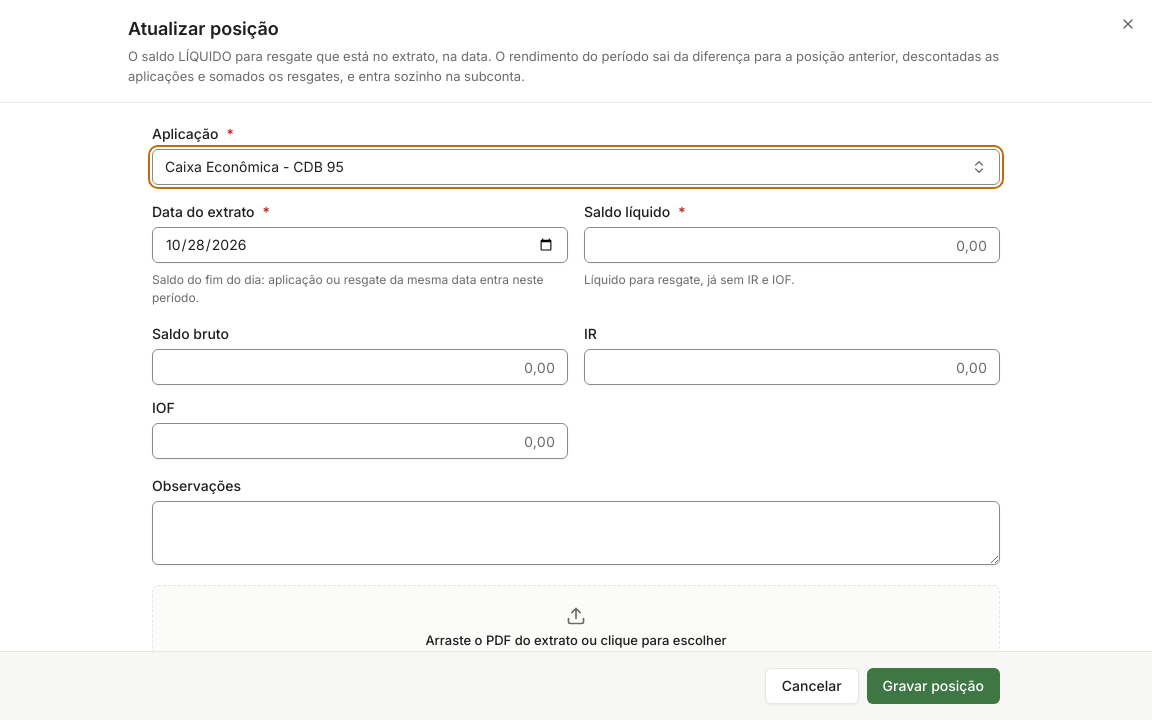
PosicaoFormDrawer › mostra o esperado pelo CDI e não avisa quando está dentro da faixa
In the field labelled "Saldo líquido *": {"x": 792, "y": 245} left=584, top=227, right=1000, bottom=263, type "100850,00"
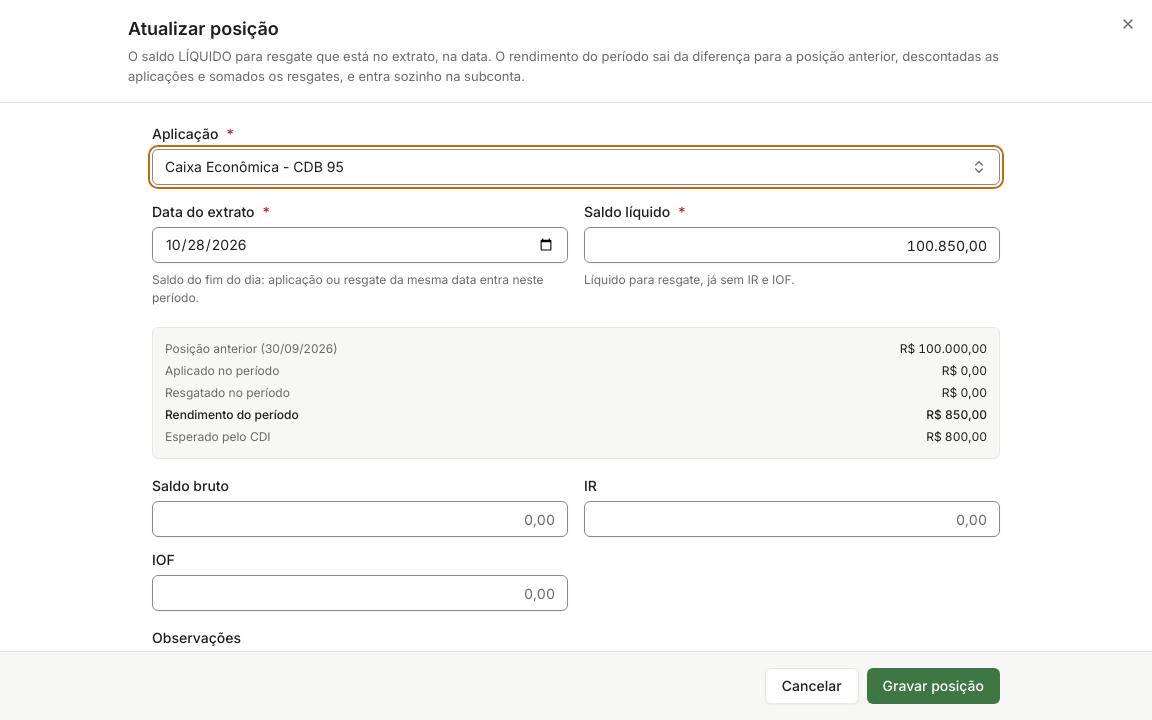
Result: the text "Esperado pelo CDI" is shown at left=165, top=429, right=270, bottom=444
